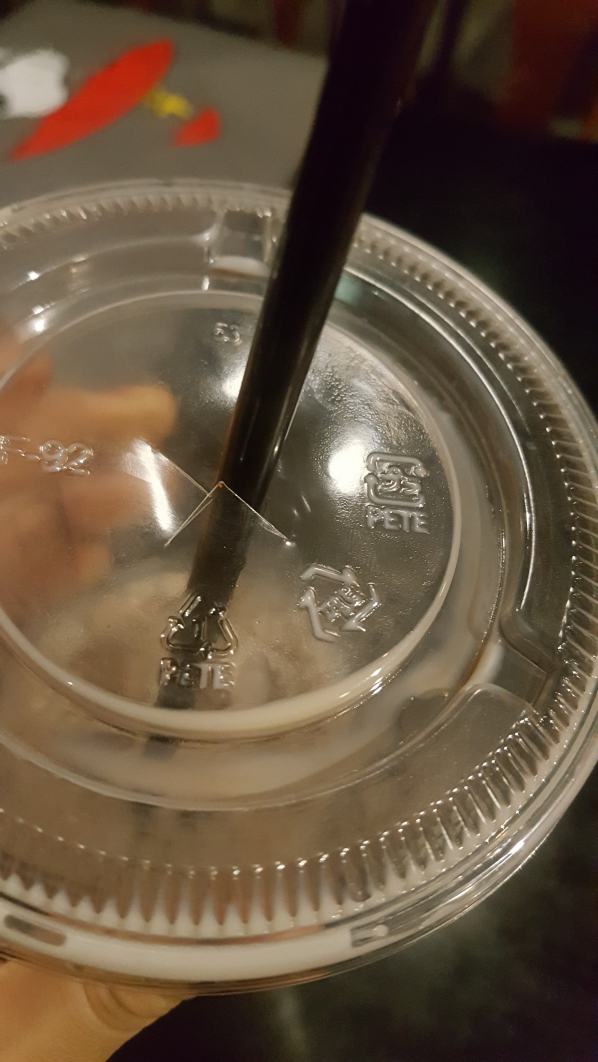recycle: (150, 594, 251, 698)
